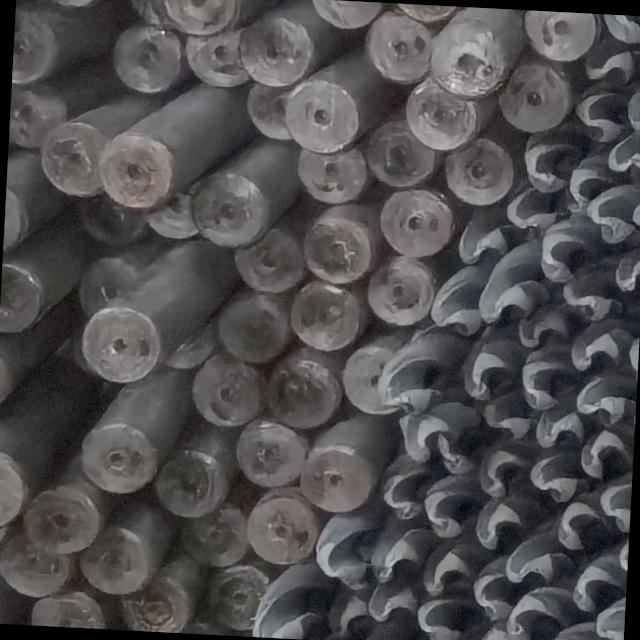tool: (74, 304, 162, 383), (188, 172, 270, 250), (14, 482, 101, 555), (402, 74, 482, 150), (284, 79, 362, 156), (242, 488, 318, 567), (79, 422, 160, 496), (259, 356, 342, 428), (433, 23, 510, 100), (186, 353, 262, 430), (78, 526, 159, 597), (110, 20, 184, 96), (39, 120, 112, 197), (301, 439, 376, 513), (378, 186, 455, 258), (156, 448, 235, 518), (288, 279, 362, 353), (496, 61, 570, 135), (362, 112, 434, 188), (240, 15, 316, 86), (178, 494, 250, 568), (101, 134, 173, 208), (232, 416, 308, 486), (440, 134, 513, 205), (367, 253, 436, 327), (234, 226, 308, 294), (216, 295, 292, 361), (0, 531, 68, 603), (76, 186, 152, 250), (362, 14, 432, 82), (182, 25, 257, 88), (294, 143, 366, 207), (120, 574, 194, 634), (8, 74, 66, 148), (342, 345, 404, 413), (13, 8, 63, 90), (207, 561, 268, 628), (244, 82, 306, 144), (524, 10, 598, 59), (0, 260, 45, 332), (144, 0, 237, 32), (32, 592, 107, 628), (143, 190, 199, 238), (0, 448, 26, 551), (159, 326, 217, 367), (306, 0, 385, 30), (4, 185, 32, 255), (400, 4, 456, 22), (32, 0, 113, 6)
tool_b: (398, 399, 486, 474), (480, 246, 554, 326), (246, 583, 323, 640), (537, 214, 599, 284), (378, 346, 436, 414), (457, 336, 517, 401), (309, 523, 368, 589), (566, 550, 626, 614), (507, 583, 574, 640), (422, 472, 476, 540), (569, 83, 629, 144), (506, 532, 570, 588), (560, 266, 624, 322), (587, 185, 640, 249), (474, 444, 530, 501), (548, 496, 606, 550), (573, 369, 633, 419), (576, 425, 632, 478), (473, 495, 526, 550), (526, 448, 580, 501), (431, 279, 482, 335), (378, 461, 424, 522), (566, 326, 624, 374), (480, 390, 532, 442), (565, 152, 610, 210), (517, 306, 571, 354), (455, 220, 511, 266), (413, 596, 471, 640), (520, 138, 566, 193), (582, 39, 634, 87), (469, 562, 512, 620), (504, 186, 558, 230), (519, 356, 562, 410), (372, 533, 418, 582), (421, 547, 468, 592), (366, 582, 416, 624), (605, 128, 640, 187), (534, 410, 582, 451), (598, 477, 632, 533), (594, 596, 626, 640), (614, 243, 640, 295), (597, 14, 640, 45), (542, 620, 597, 640), (478, 617, 521, 640), (626, 79, 640, 134), (632, 188, 640, 245)
